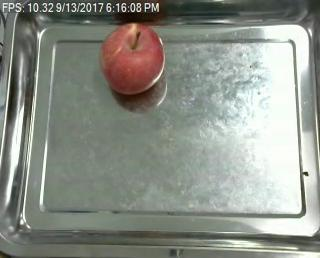apple: (99, 23, 167, 94)
